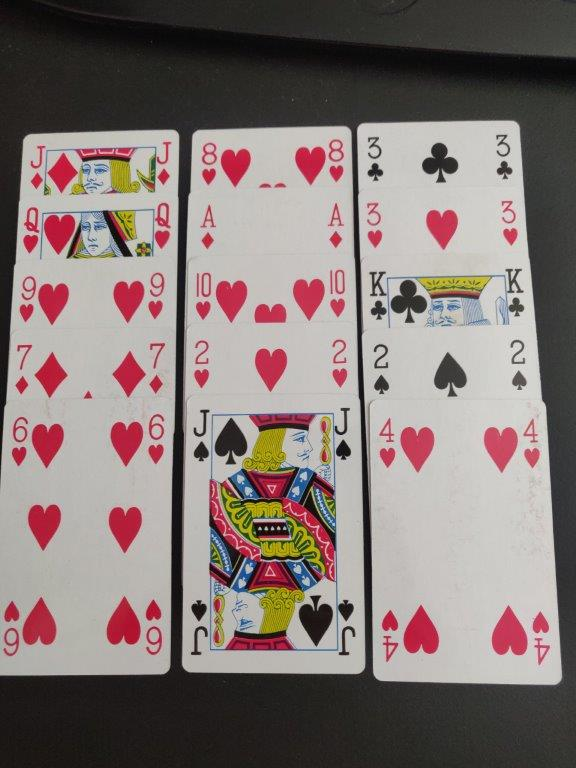10H: (188, 265, 217, 322), (323, 263, 349, 323)
2H: (328, 334, 353, 390), (191, 337, 214, 395)
2S: (368, 340, 399, 401), (503, 334, 531, 397)
3C: (490, 127, 518, 184), (361, 130, 390, 184)
3H: (495, 191, 525, 249), (361, 199, 388, 252)
4H: (372, 415, 399, 476), (518, 414, 544, 475)
6H: (7, 414, 33, 470), (145, 407, 168, 466)
7D: (145, 335, 169, 398), (10, 337, 35, 395)
8H: (324, 135, 351, 187), (197, 139, 222, 191)
9H: (145, 268, 171, 325), (14, 271, 41, 325)
AD: (323, 196, 350, 255), (194, 199, 221, 253)
JD: (22, 142, 52, 193), (150, 135, 176, 189)
JS: (187, 405, 215, 472), (328, 403, 354, 465)
KC: (501, 264, 533, 322), (363, 265, 391, 324)
QH: (19, 206, 45, 258), (151, 197, 175, 253)
